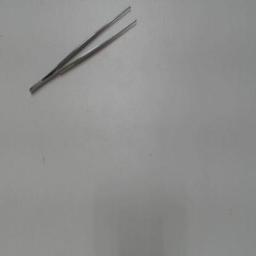Gillies Toothed Dissector: (26, 2, 138, 98)
